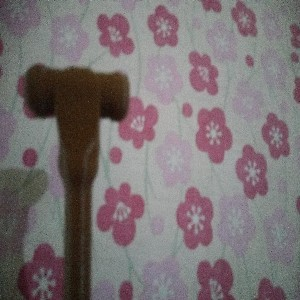palu: (24, 62, 130, 300)
